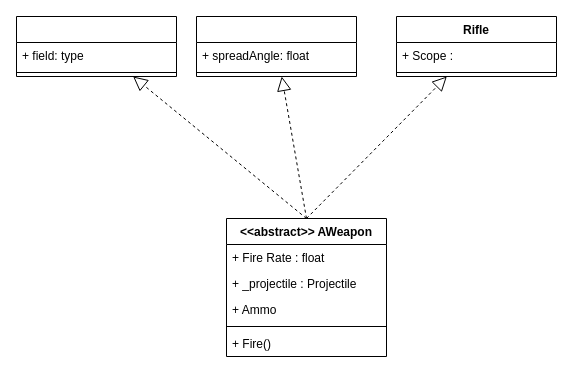
This 573x373 diagram has some shape labels left out. Here are the shapes that lost their labels. From the top down, the box of each, then its label:
(16, 16, 176, 76): Gun
(196, 16, 356, 76): Shotgun
